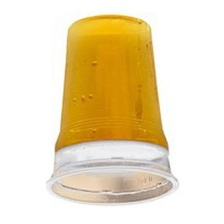glass: (41, 10, 183, 213)
